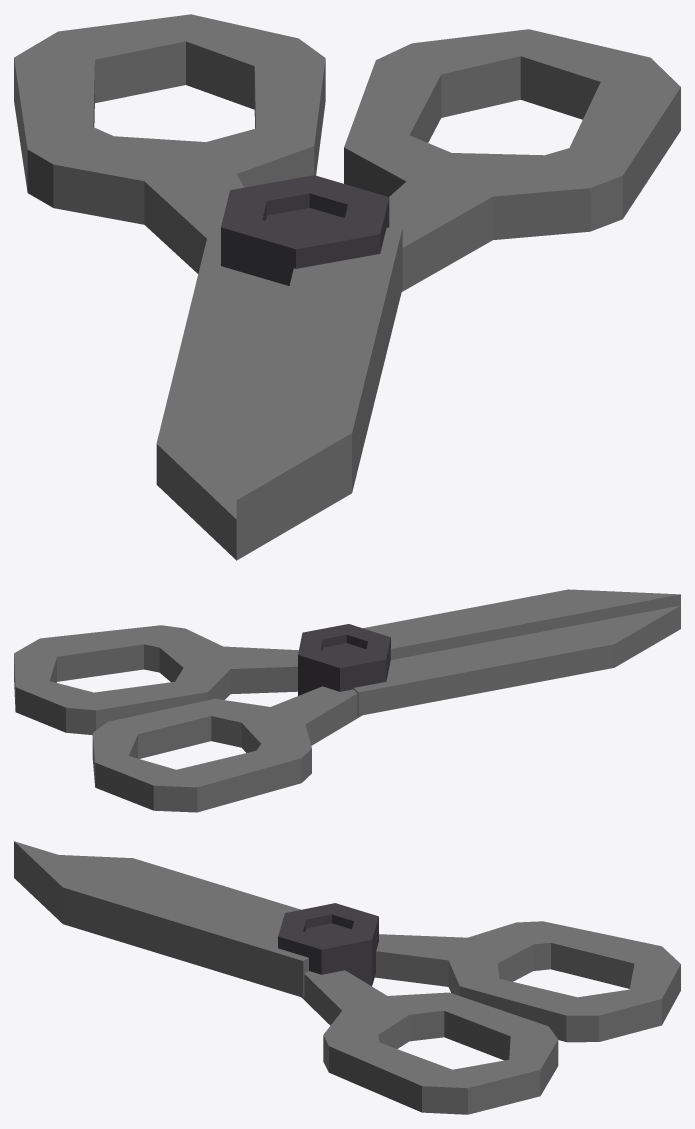
The model's file is urp 10.fbx.
3 views of the same model, one above another, from view 1: azimuth 30°, elevation 25°; view 2: azimuth 150°, elevation 25°; view 3: azimuth 270°, elevation 25° (orthographic). The views are drawn at different scales.
Visible parts, largest first — view 1: urp 10; view 2: urp 10; view 3: urp 10.
Boxes of the visible parts, <box> form: urp 10: <box>14,14,680,560</box>; urp 10: <box>14,589,680,812</box>; urp 10: <box>14,841,680,1114</box>.
Bounding box in the file's own units: 67.89 × 6.99 × 81.84.
